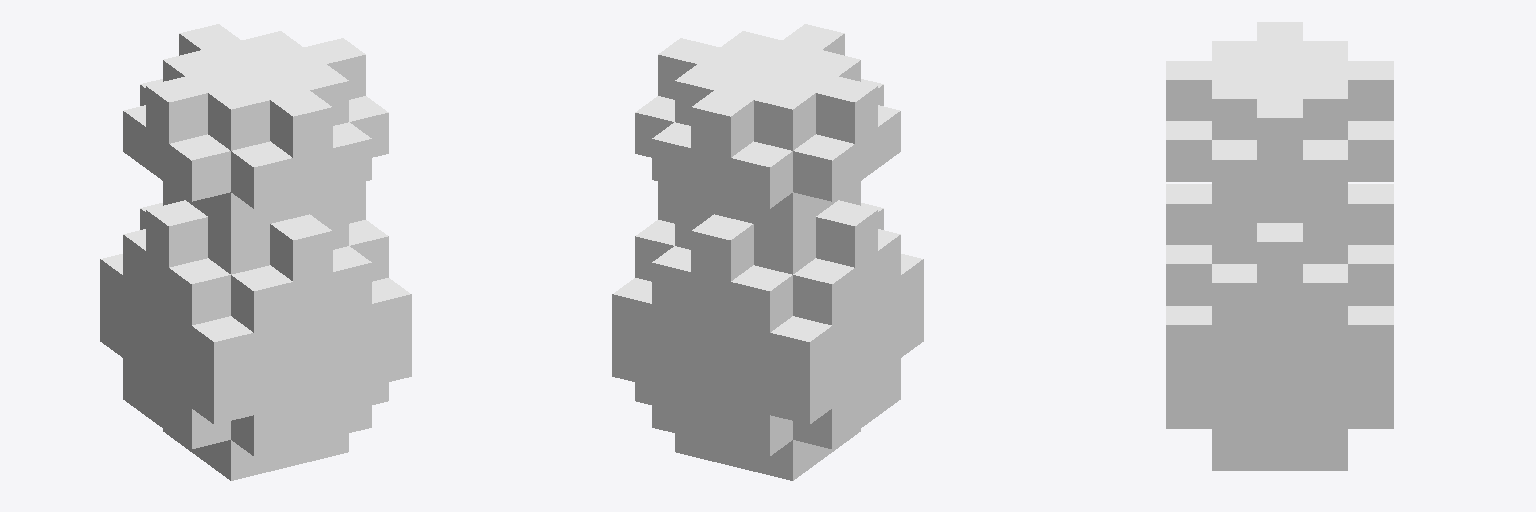
The model's file is sol.obj.
3 views of the same model, side by side, from view 1: azimuth 30°, elevation 25°; view 2: azimuth 150°, elevation 25°; view 3: azimuth 270°, elevation 25° (orthographic).
Parts seen in each view (by area): view 1: ObjObject.001; view 2: ObjObject.001; view 3: ObjObject.001.
Part boxes in pixels (bbox=[...]): ObjObject.001: bbox=[100, 24, 411, 480]; ObjObject.001: bbox=[612, 24, 923, 480]; ObjObject.001: bbox=[1166, 22, 1393, 470].
Size of the model in its own units: 0.5 by 0.9 by 0.5.